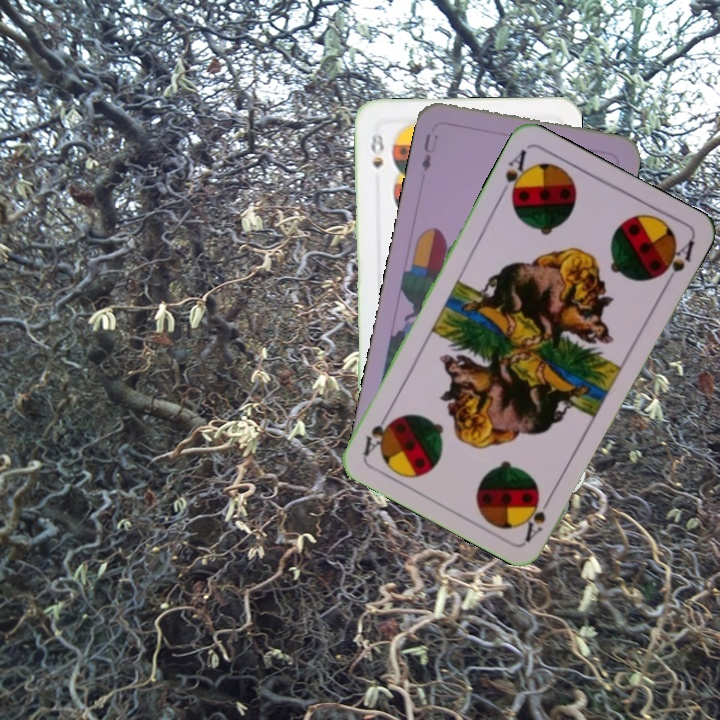EU: (417, 129, 441, 174)
S8: (367, 127, 387, 172)
SA: (495, 145, 533, 205), (521, 489, 556, 544)
